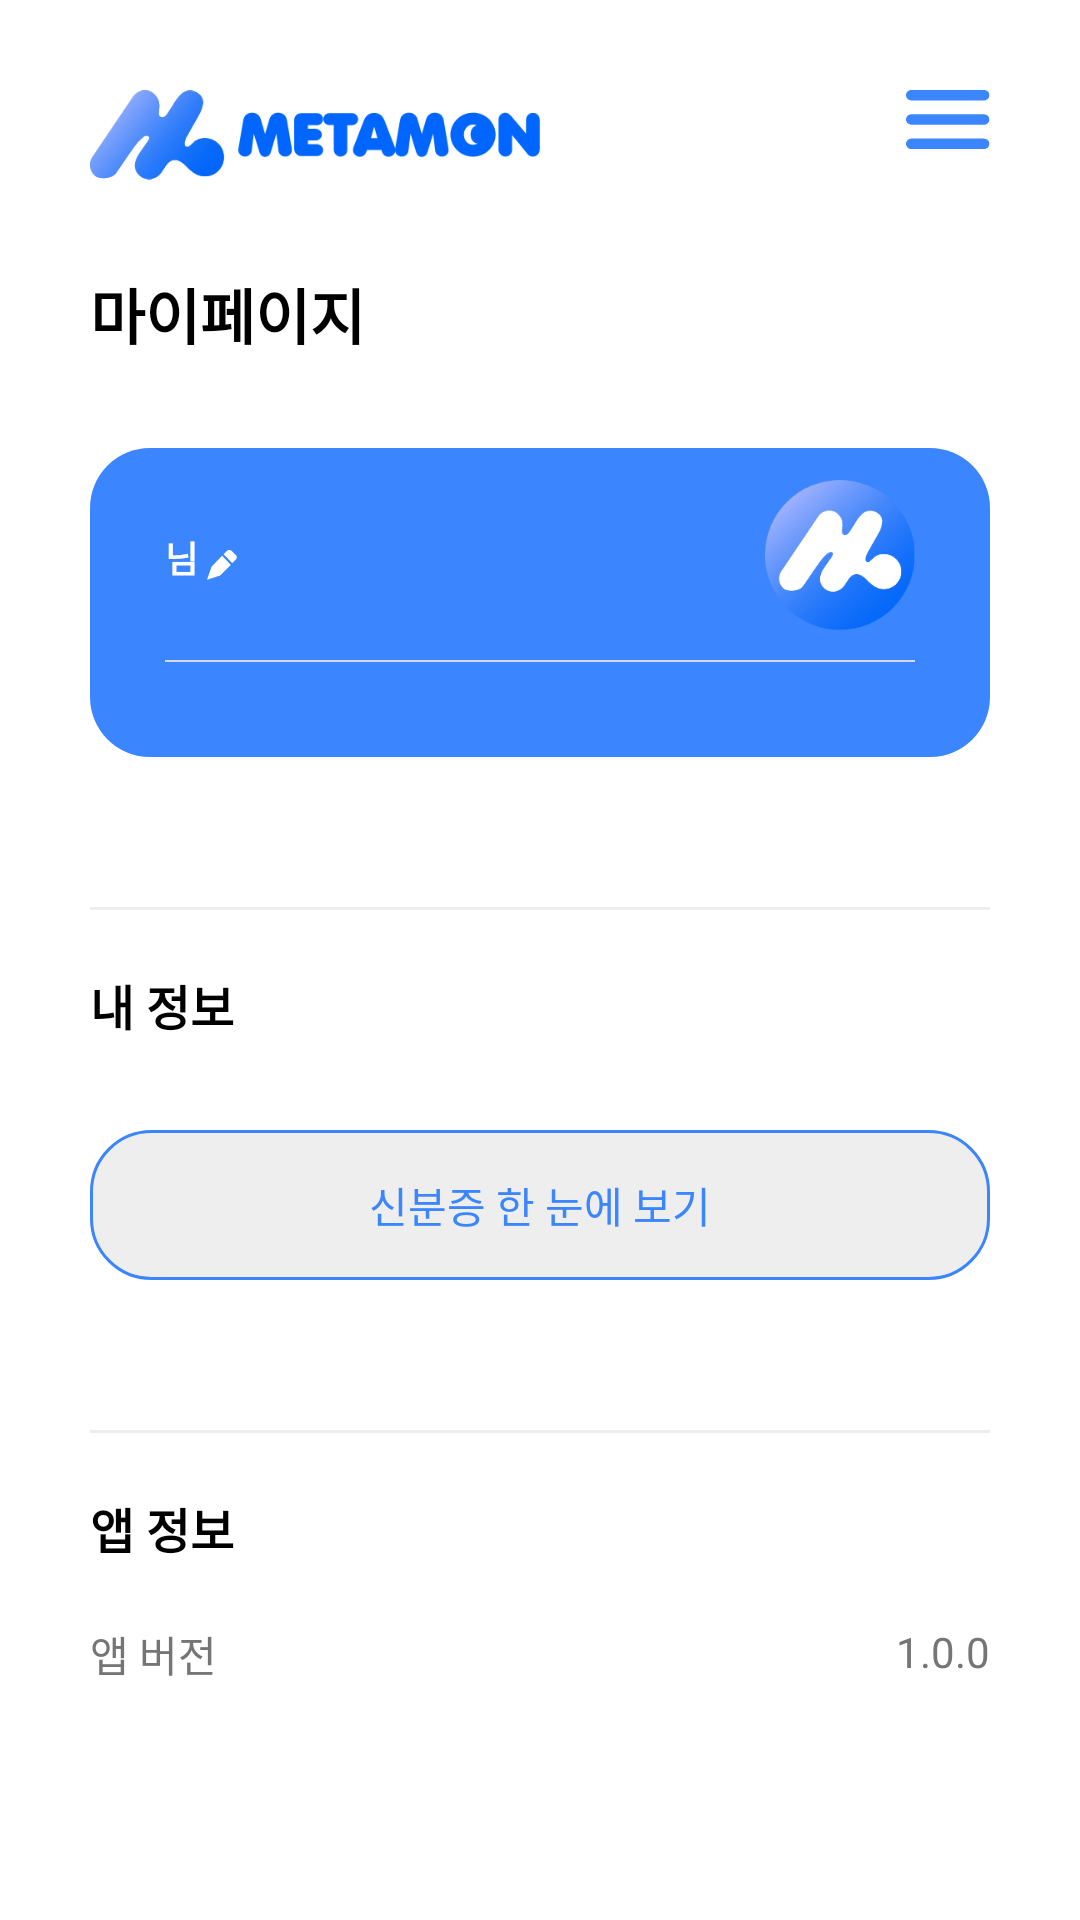

Point at icon controls on the screen. Image size 1080*1920, points as (x=x, y=y).
edit: (x=222, y=565)
